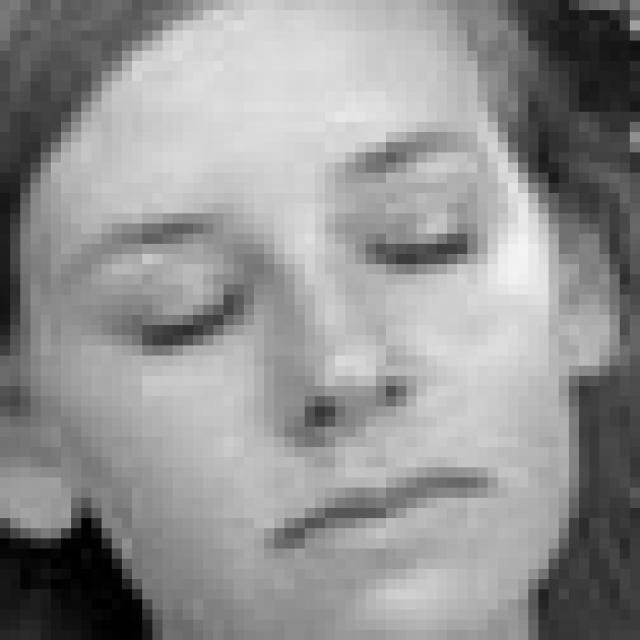real: (10, 8, 586, 638), (114, 188, 526, 352)
